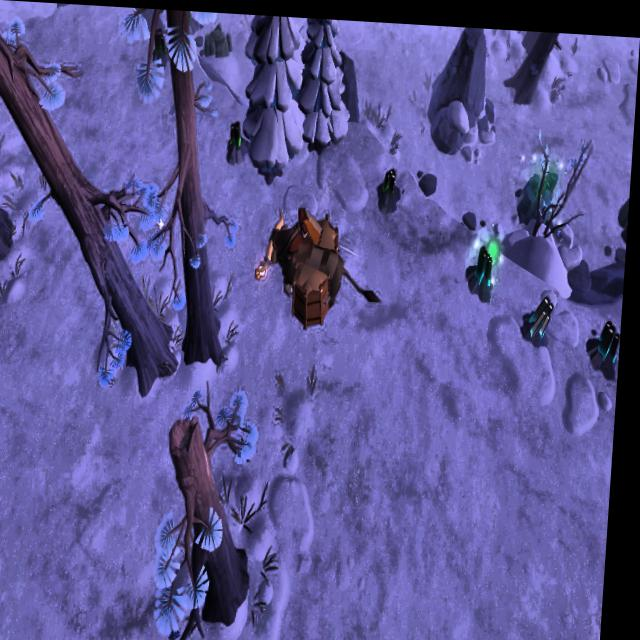ore_t3: (382, 160, 400, 193), (151, 26, 169, 59), (228, 117, 247, 146)
ore_t4: (529, 284, 555, 338), (601, 307, 625, 359), (478, 239, 497, 285)
rock_t3: (200, 21, 238, 61)
rock_t4: (517, 152, 560, 226)
